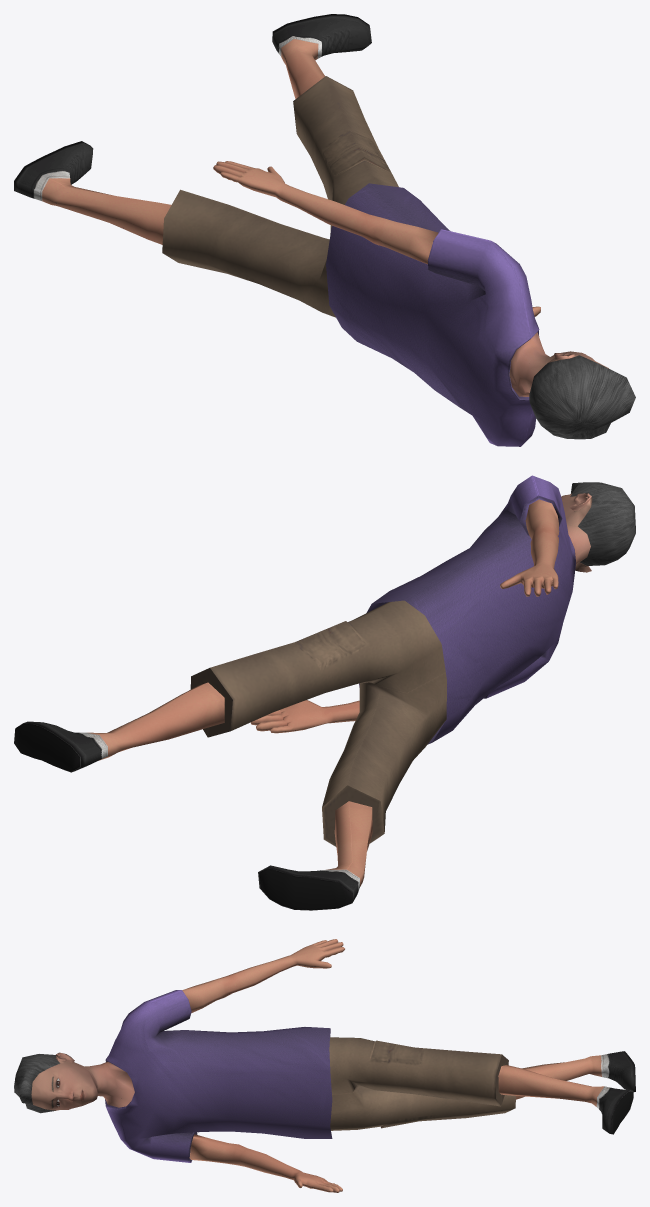
Rendered from walk.obj.
3 renders of one model, top to bottom at view 1: azimuth 30°, elevation 25°; view 2: azimuth 150°, elevation 25°; view 3: azimuth 270°, elevation 25°, orthographic. The views are drawn at different scales.
Bounding box in the file's own units: 0.8088 × 0.5015 × 1.74.
1 material, 1 textured.
